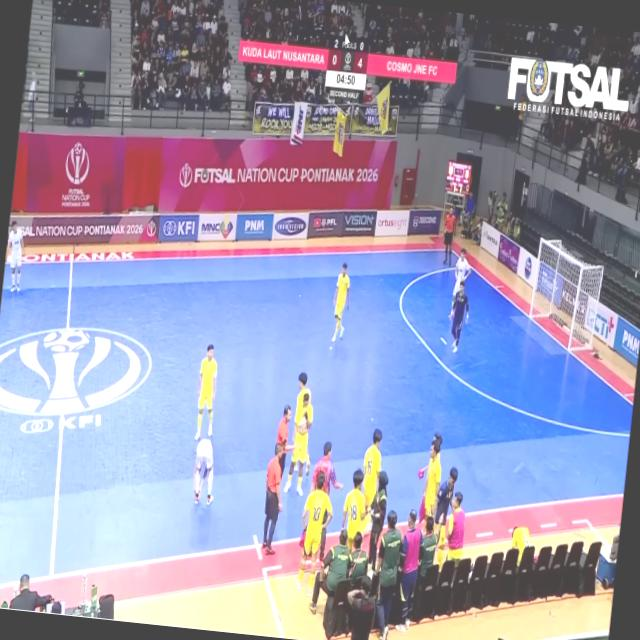keeper: (451, 281, 468, 350)
official: (312, 442, 342, 493)
players: (296, 471, 333, 595), (284, 373, 312, 492), (284, 389, 313, 496), (195, 344, 217, 440), (342, 470, 367, 551), (450, 280, 469, 353), (333, 263, 350, 341), (6, 221, 24, 292), (194, 439, 213, 505), (453, 249, 471, 298), (444, 207, 456, 265), (363, 516, 370, 534)
referee: (263, 444, 283, 555), (277, 405, 294, 475), (443, 233, 451, 245)
